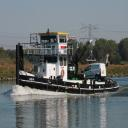tugboat: (16, 29, 122, 97)
